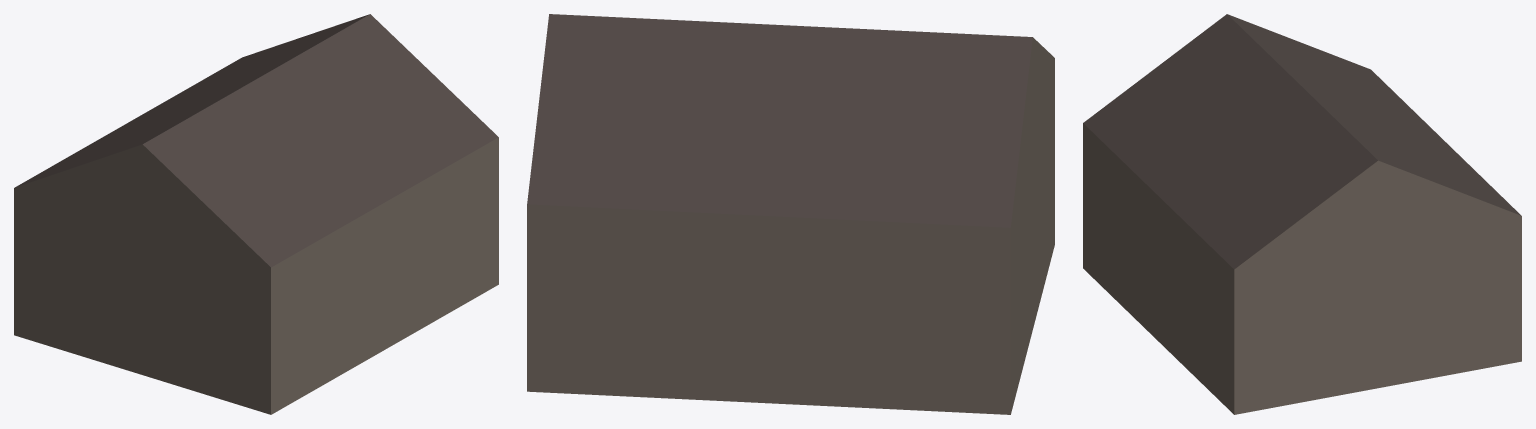
3 views of the same model, side by side, from view 1: azimuth 30°, elevation 25°; view 2: azimuth 150°, elevation 25°; view 3: azimuth 270°, elevation 25° (orthographic). The views are drawn at different scales.
Visible parts, largest first — view 1: HP-w859457512; view 2: HP-w859457512; view 3: HP-w859457512.
Boxes of the visible parts, x1,y1,x2,y2 form: HP-w859457512: (14,14,498,414); HP-w859457512: (527,14,1054,414); HP-w859457512: (1083,14,1521,414).
Size of the model in its own units: 17.7 by 9.4 by 16.41.
